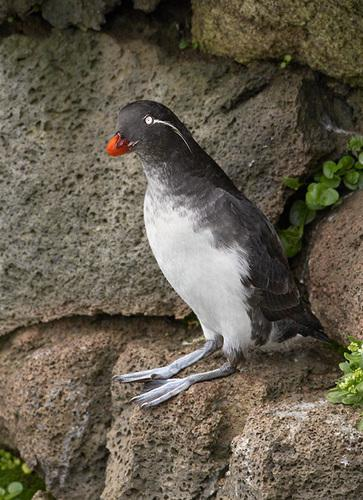007.Parakeet_Auklet: (105, 97, 347, 415)
